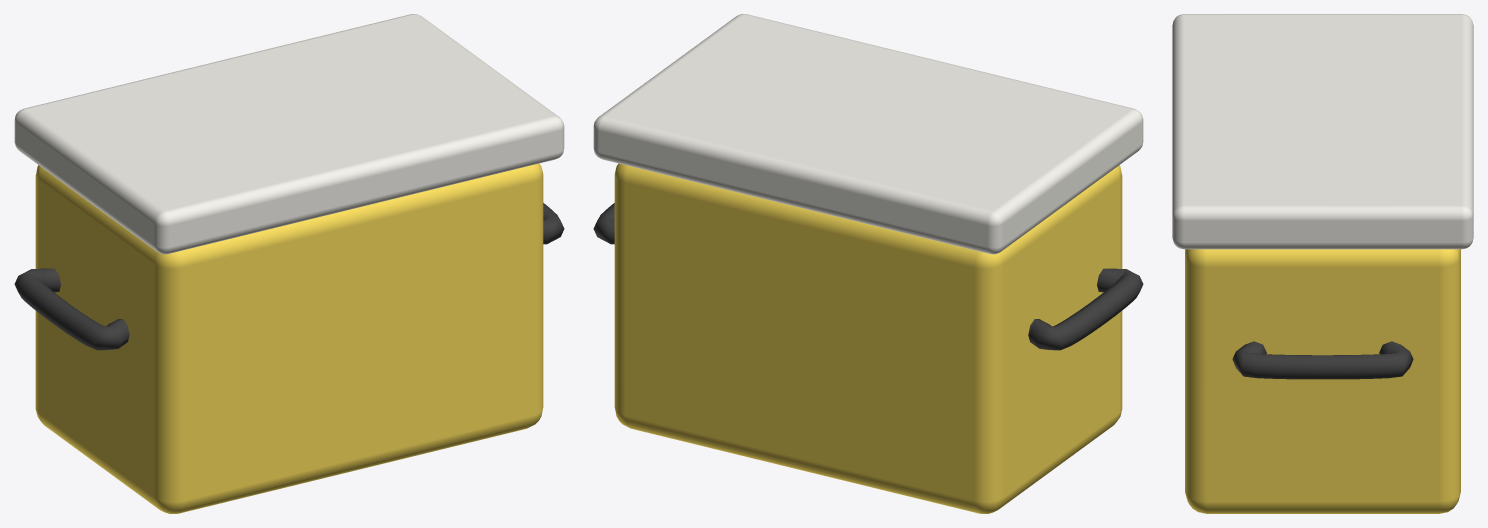
The model's file is paranormal-investigation-house-cooler-39d5a465__26852.glb.
The picture shows the model from 3 angles, left to right: view 1: azimuth 30°, elevation 25°; view 2: azimuth 150°, elevation 25°; view 3: azimuth 270°, elevation 25°; orthographic projection.
Parts seen in each view (by area): view 1: cooler, cooler-lid; view 2: cooler, cooler-lid; view 3: cooler, cooler-lid.
Boxes of the visible parts, x1=… form: cooler: x1=14, y1=163, x2=564, y2=513; cooler-lid: x1=14, y1=14, x2=564, y2=254; cooler: x1=593, y1=163, x2=1143, y2=513; cooler-lid: x1=593, y1=14, x2=1143, y2=254; cooler: x1=1185, y1=249, x2=1460, y2=513; cooler-lid: x1=1172, y1=14, x2=1473, y2=249.
Bounding box in the file's own units: 0.649 × 0.405 × 0.35.
